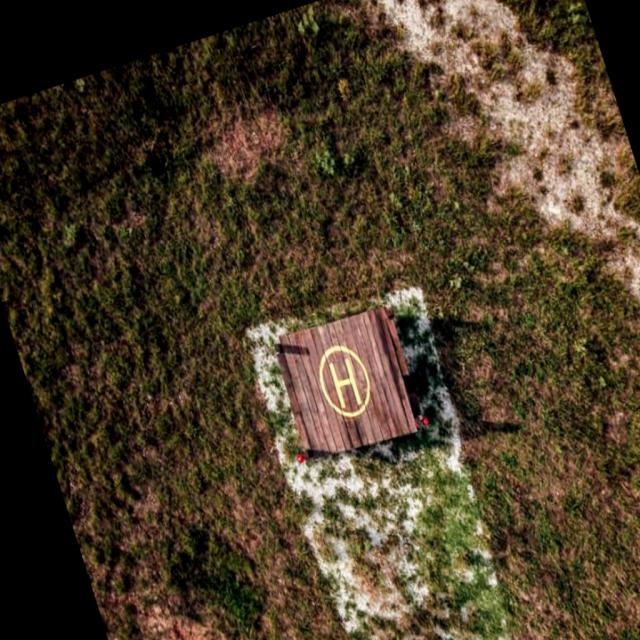helipad: (317, 339, 372, 418)
